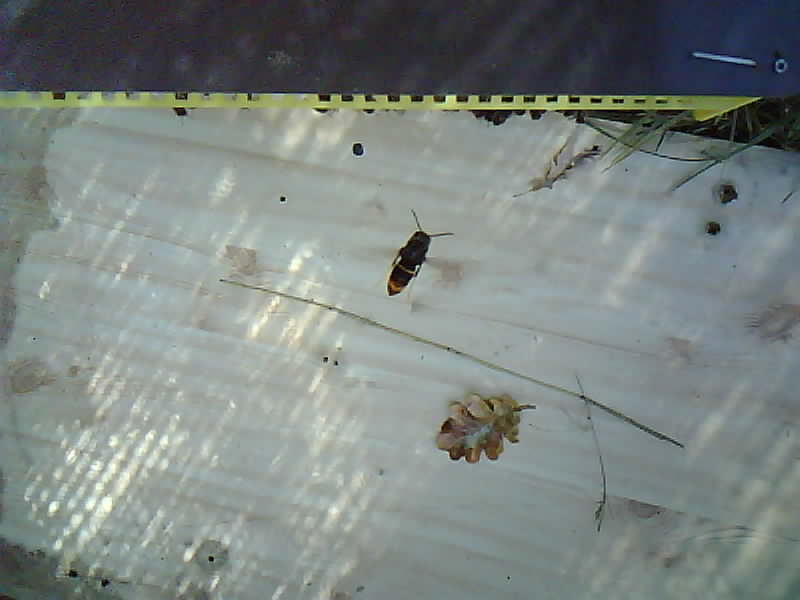hornet: (385, 225, 436, 297)
